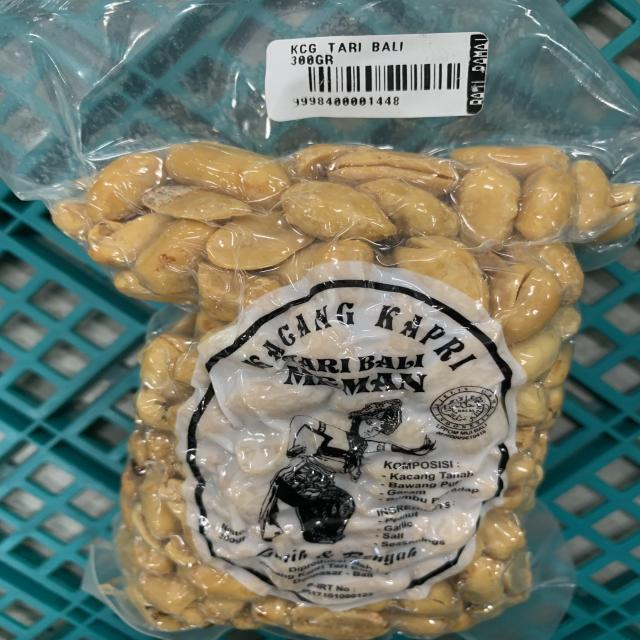object_name: (51, 6, 546, 636)
